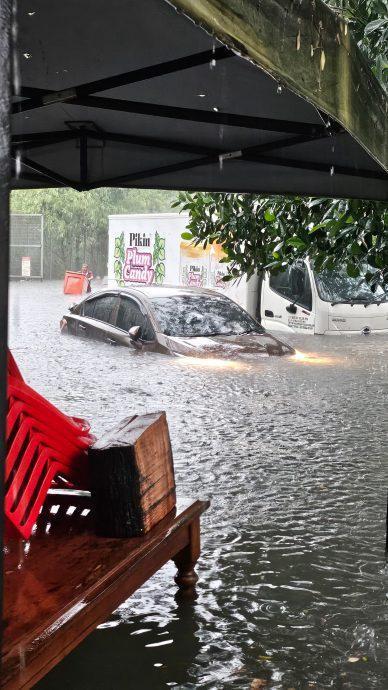water: (3, 279, 387, 687)
